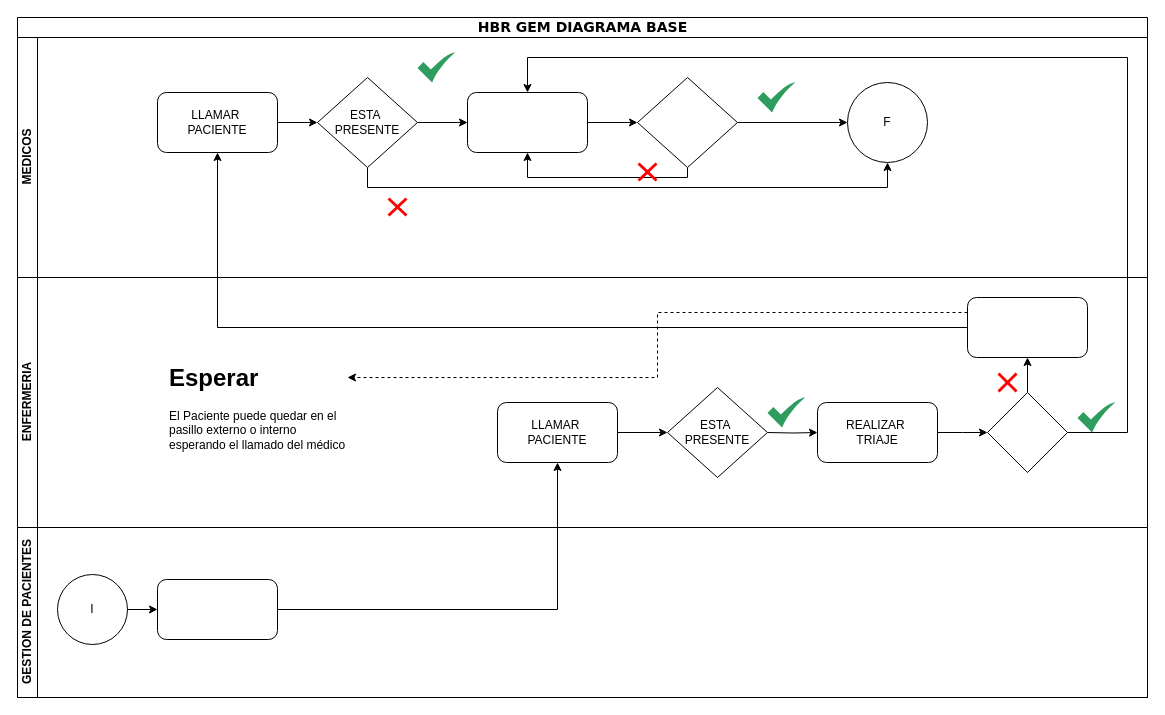
Some shapes in this 1165 by 715 pixel diagram are drawn without their labels. The centre of each missing label's shape, as x and y in pixels:
ATENDER PACIETNE: [527,122]
ESPERAR ATENCION MEDICA: [1027,327]
FIN ATENCION: [687,122]
RECEPCIONAR PACIENTES: [217,609]
Shocroom: [1027,432]
